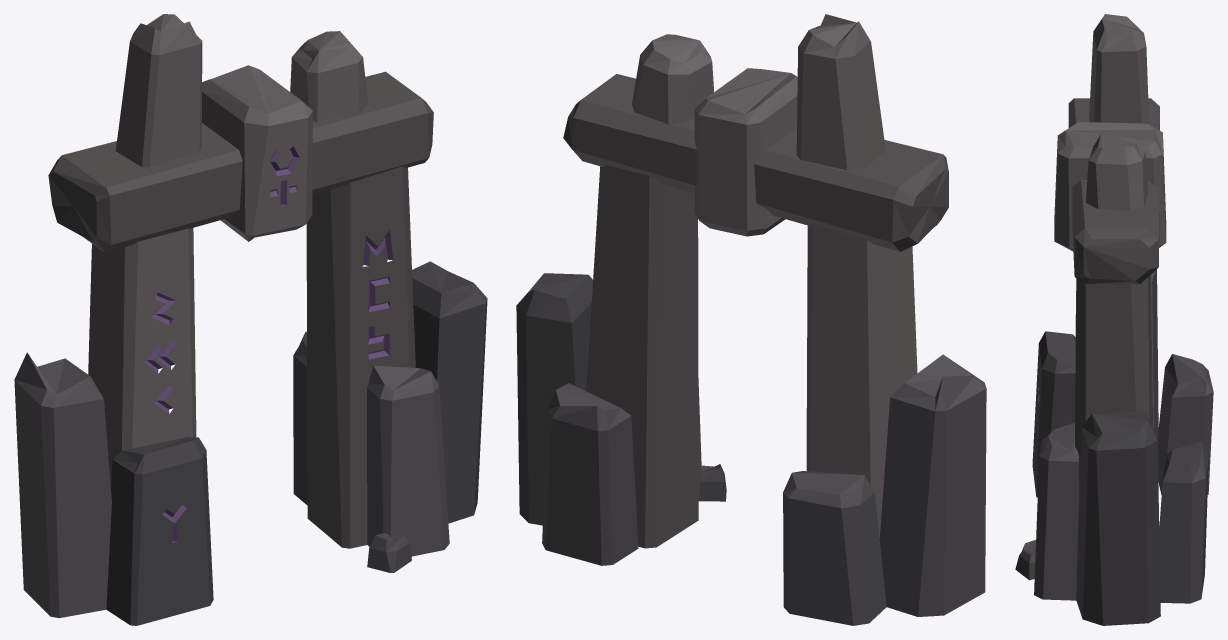
File: stage4_portal.glb
3 views of the same model, side by side, from view 1: azimuth 30°, elevation 25°; view 2: azimuth 150°, elevation 25°; view 3: azimuth 270°, elevation 25° (orthographic). The views are drawn at different scales.
Visible parts, largest first — view 1: rune-gate-stones; view 2: rune-gate-stones; view 3: rune-gate-stones.
Boxes of the visible parts, x1,y1,x2,y2 form: rune-gate-stones: [14, 14, 487, 625]; rune-gate-stones: [516, 14, 986, 625]; rune-gate-stones: [1015, 14, 1213, 625].
Bounding box in the file's own units: 3.42 × 4.02 × 1.52.
